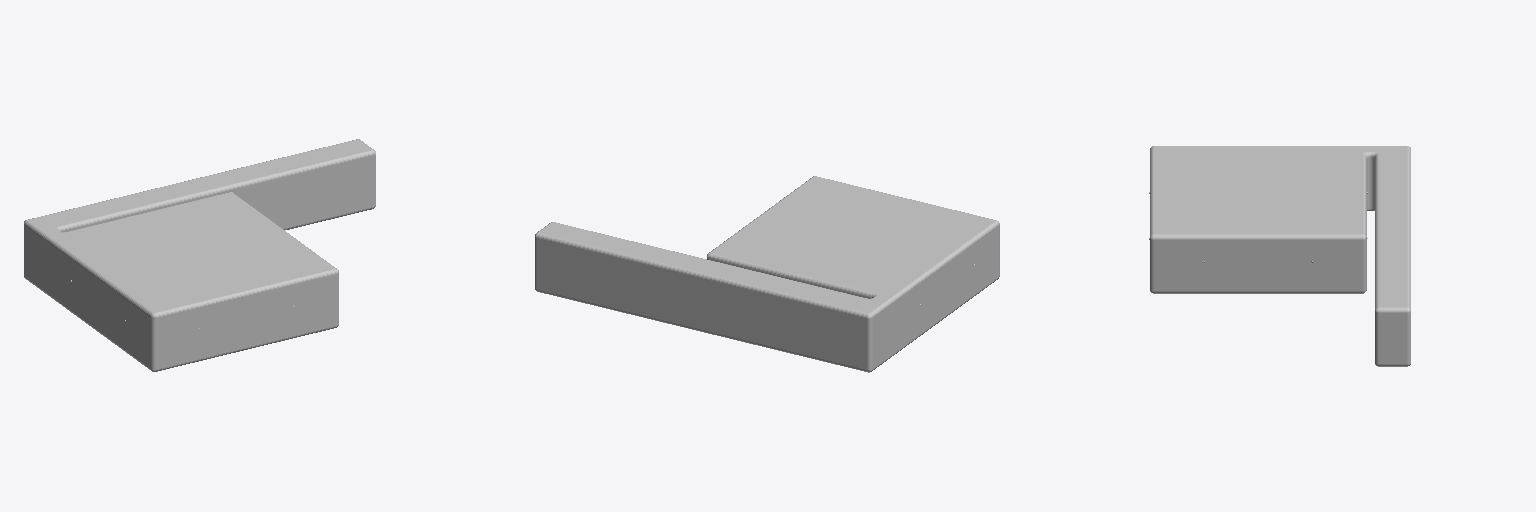
File: ben-objexport.obj
3 views of the same model, side by side, from view 1: azimuth 30°, elevation 25°; view 2: azimuth 150°, elevation 25°; view 3: azimuth 270°, elevation 25° (orthographic).
Parts seen in each view (by area): view 1: pasted__pCube1 group; view 2: pasted__pCube1 group; view 3: pasted__pCube1 group.
Part boxes in pixels (x1,y1,x2,y2): pasted__pCube1 group: (24,139,375,371); pasted__pCube1 group: (535,176,999,372); pasted__pCube1 group: (1150,146,1410,366).
Size of the model in its own units: 18.02 by 3 by 12.11.